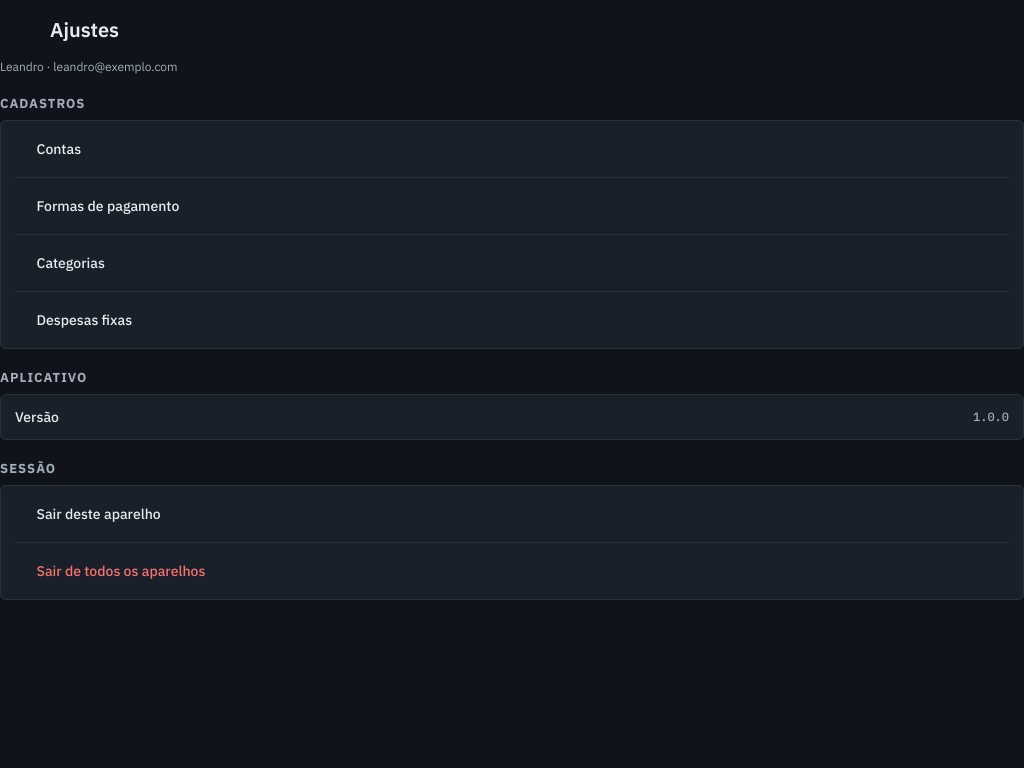
Test: T14 Ajustes › sem rede: fecha o diálogo, avisa "Sem conexão. Tente de novo" e continua em Ajustes
Click the button "Sair de todos os aparelhos": (121, 571) [15,549,1009,593]
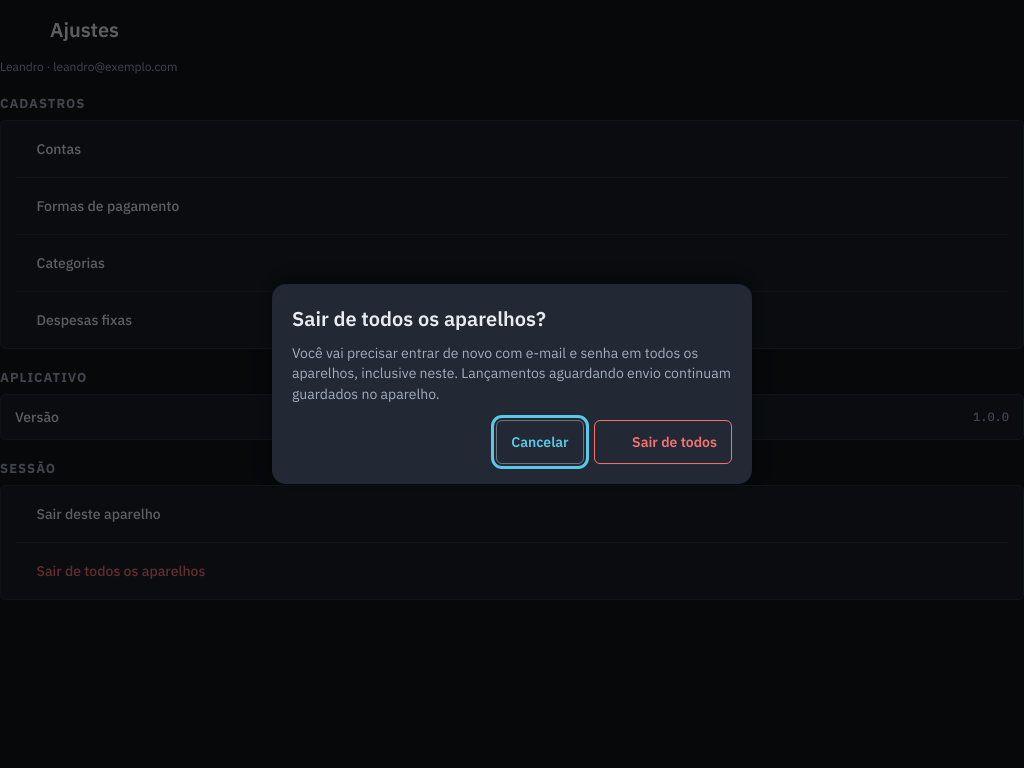
Click the button "Sair de todos": (663, 442) [594,420,732,464]
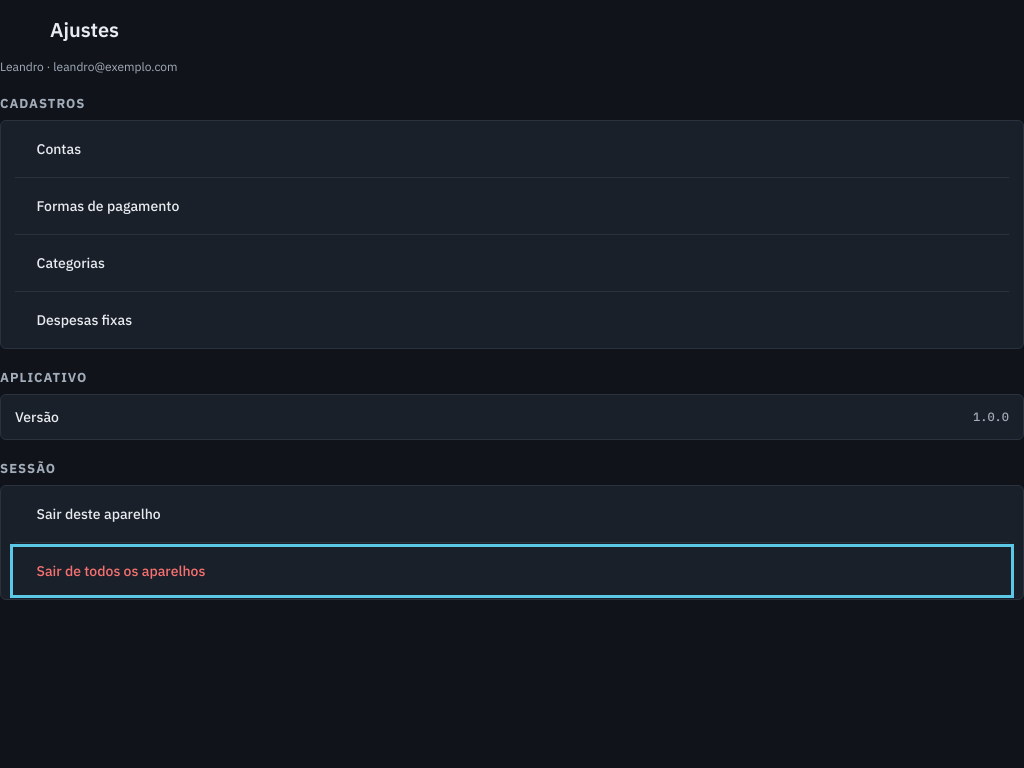
Expected: the heading "Ajustes" is shown, [50,16,119,42]
Expected: the dialog is gone
